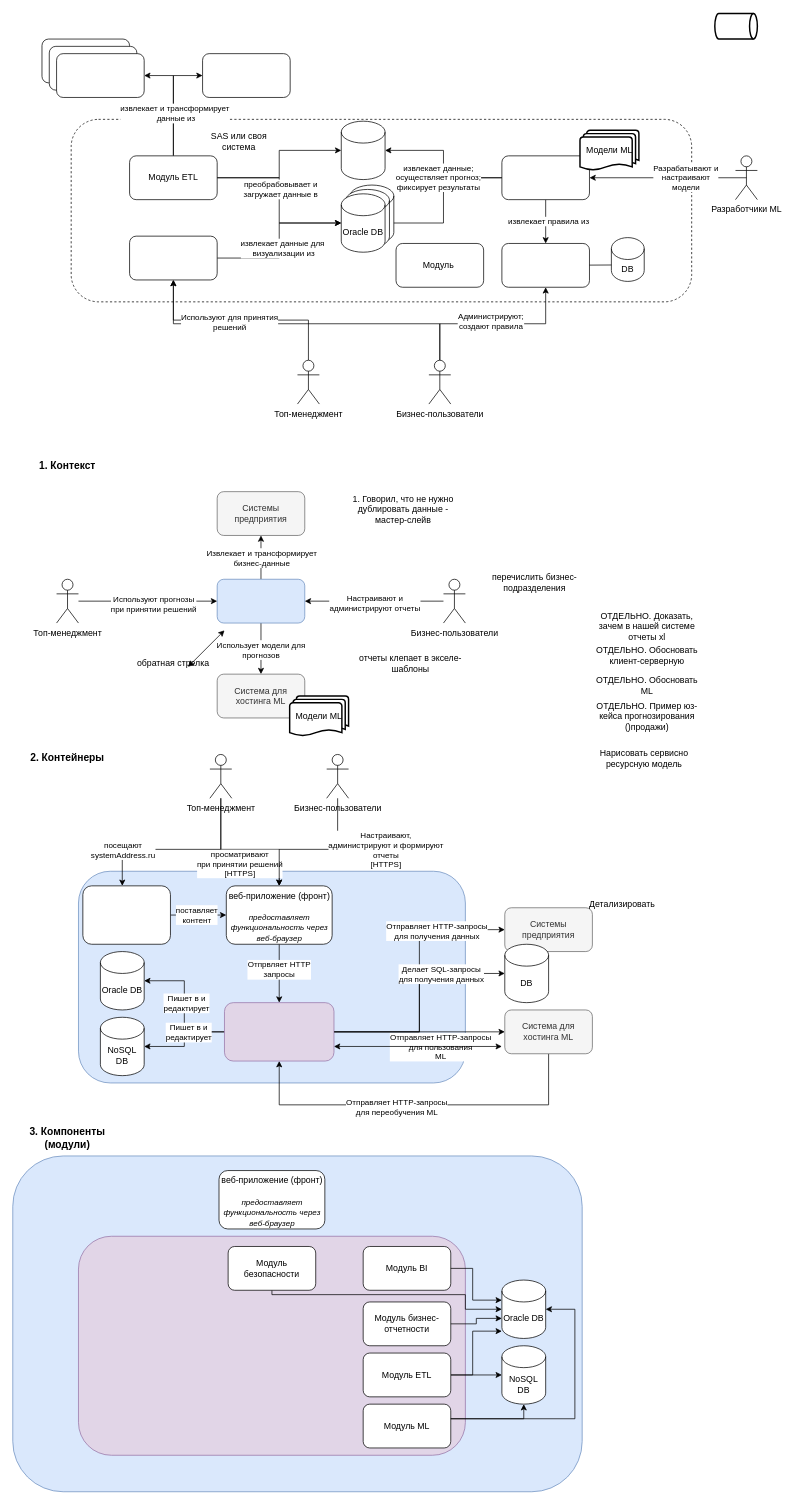
Image size: 794x1505. Some labels were removed from this diagram. Each missing label, with the centre of its shape:
1С Различных конфигураций: [100,75]
API-приложение (бэк) предоставляет функциональность через JSON/HTTPS API: [279,1031]
CRM: [246,75]
kafka: [736,25]
No SQL: [363,150]
веб-приложение предоставляет контент для фронт-части: [126,914]
Модуль BI (Grafana): [173,257]
Модуль бизнес-логики прогнозов: [545,265]
Модуль прогнозирования (ML Flow): [545,177]
Наша система: [260,601]
